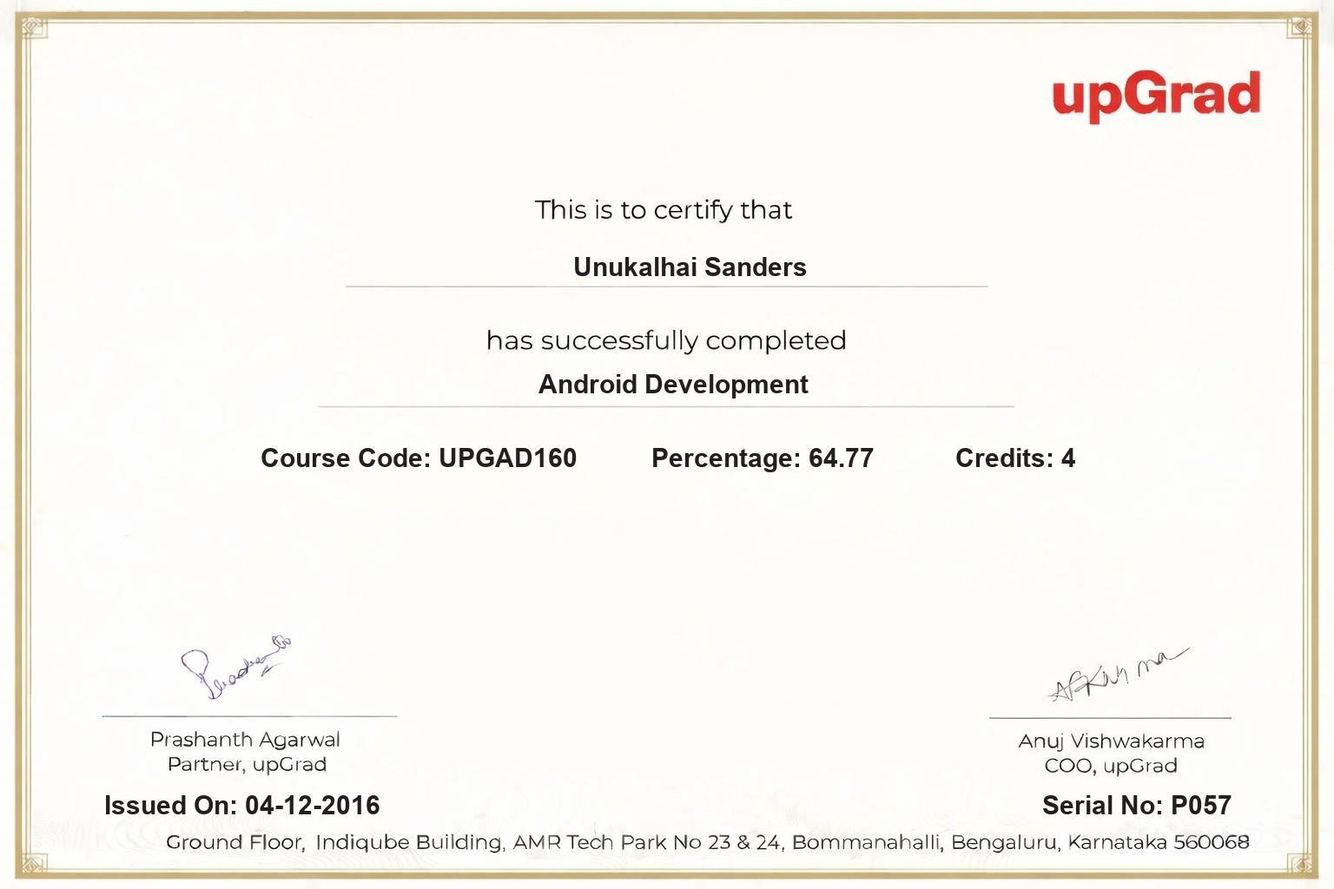Course Code: (433, 440, 584, 477)
Course Name: (531, 364, 816, 408)
Credits: (1055, 439, 1085, 478)
Issued On: (242, 786, 385, 826)
Percentage: (805, 442, 878, 480)
Serial No: (1167, 788, 1236, 826)
Student Name: (557, 246, 811, 285)
